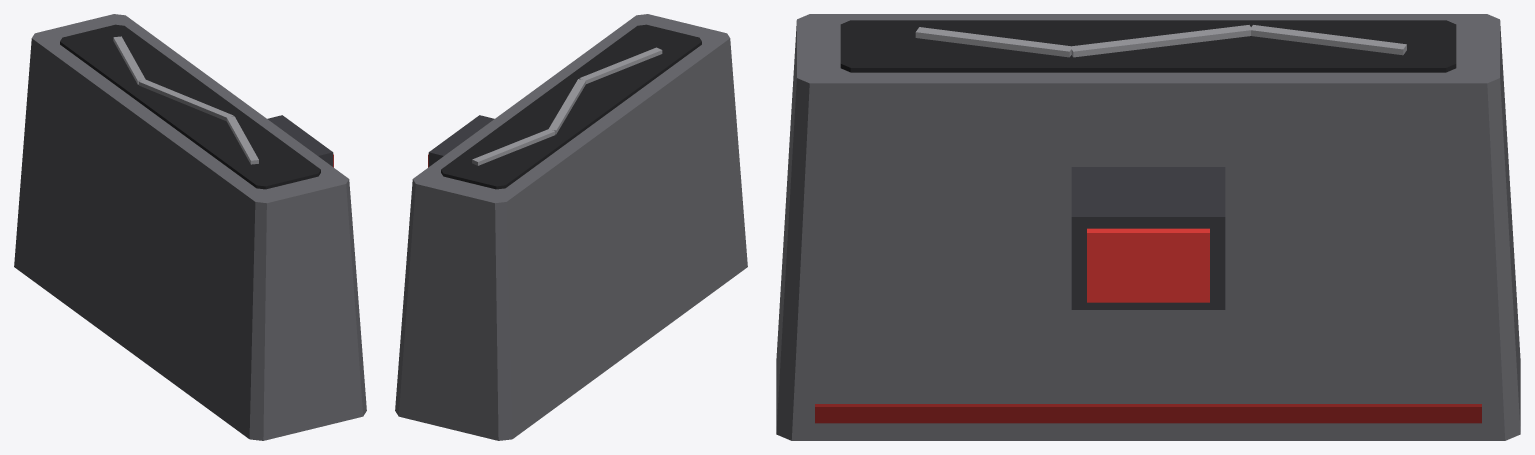
Rendered from void_monolith_left_c.obj.
3 views of the same model, side by side, from view 1: azimuth 30°, elevation 25°; view 2: azimuth 150°, elevation 25°; view 3: azimuth 270°, elevation 25° (orthographic). The views are drawn at different scales.
Parts seen in each view (by area): view 1: void_monolith_left_c_0, void_monolith_left_c_1, void_monolith_left_c_5, void_monolith_left_c_3, void_monolith_left_c_2, void_monolith_left_c_4; view 2: void_monolith_left_c_0, void_monolith_left_c_1, void_monolith_left_c_5, void_monolith_left_c_4, void_monolith_left_c_2, void_monolith_left_c_3; view 3: void_monolith_left_c_0, void_monolith_left_c_1, void_monolith_left_c_7, void_monolith_left_c_5, void_monolith_left_c_6, void_monolith_left_c_3, void_monolith_left_c_2, void_monolith_left_c_4.
Part boxes in pixels (x1,y1,x2,y2): void_monolith_left_c_0: [14, 14, 366, 440]; void_monolith_left_c_1: [60, 24, 320, 189]; void_monolith_left_c_5: [267, 115, 333, 166]; void_monolith_left_c_3: [139, 79, 233, 121]; void_monolith_left_c_2: [226, 116, 258, 164]; void_monolith_left_c_4: [113, 36, 145, 84]; void_monolith_left_c_0: [395, 14, 747, 440]; void_monolith_left_c_1: [441, 24, 701, 189]; void_monolith_left_c_5: [428, 115, 494, 166]; void_monolith_left_c_4: [472, 129, 555, 165]; void_monolith_left_c_2: [579, 47, 662, 83]; void_monolith_left_c_3: [548, 79, 585, 134]; void_monolith_left_c_0: [776, 14, 1520, 440]; void_monolith_left_c_1: [840, 20, 1456, 72]; void_monolith_left_c_7: [815, 404, 1481, 423]; void_monolith_left_c_5: [1071, 167, 1225, 309]; void_monolith_left_c_6: [1087, 228, 1209, 302]; void_monolith_left_c_3: [1070, 25, 1252, 57]; void_monolith_left_c_2: [915, 27, 1071, 57]; void_monolith_left_c_4: [1251, 25, 1406, 55].
Size of the model in its own units: 1.24 by 1.54 by 2.9.
